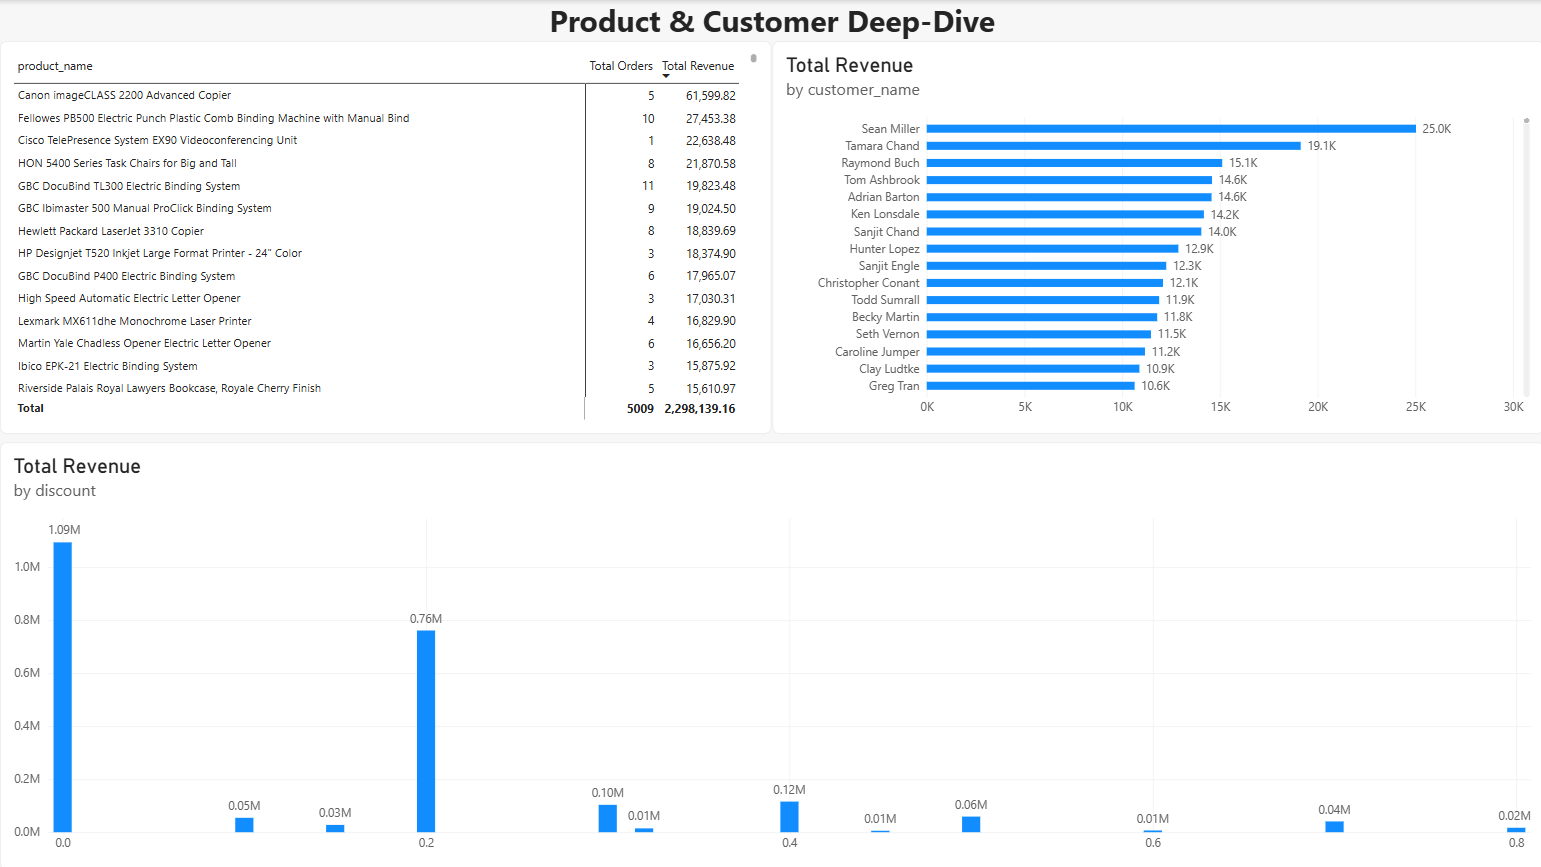

The dashboard page shown, as its layout file describes it:
{"tool":"powerbi","page":{"name":"Product & Customer Deep-Dive","canvas":[1920,1080],"ordinal":1},"visuals":[{"type":"textbox","box":[0,0,1920.4,51.5],"z":0},{"type":"pivotTable","fields":{"Rows":["products.product_name"],"Values":["orders.Total Orders","orders.Total Revenue"]},"box":[0,51.5,959.2,487.8],"z":1},{"type":"clusteredBarChart","fields":{"Category":["customers.customer_name"],"Y":["orders.Total Revenue"]},"box":[961.2,51.5,959.2,487.8],"z":2},{"type":"clusteredColumnChart","fields":{"Category":["orders.discount"],"Y":["orders.Total Revenue"]},"box":[0,549.5,1920.8,530.8],"z":3}]}

Visuals, with their boxes in screenshot pixels (x1, y1, x2, y2), scaled from the page's 1920x1080 canvas onto the 1541x867 screenshot:
textbox: [left=0, top=0, right=1540, bottom=41]
pivotTable - products.product_name x orders.Total Orders: [left=0, top=41, right=770, bottom=433]
clusteredBarChart - customers.customer_name x orders.Total Revenue: [left=771, top=41, right=1540, bottom=433]
clusteredColumnChart - orders.discount x orders.Total Revenue: [left=0, top=441, right=1540, bottom=866]
